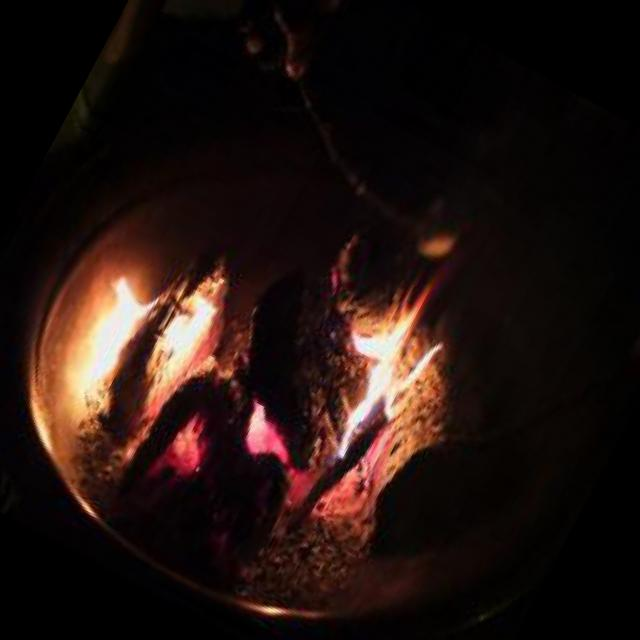fire: (303, 264, 469, 466), (73, 246, 230, 415)
